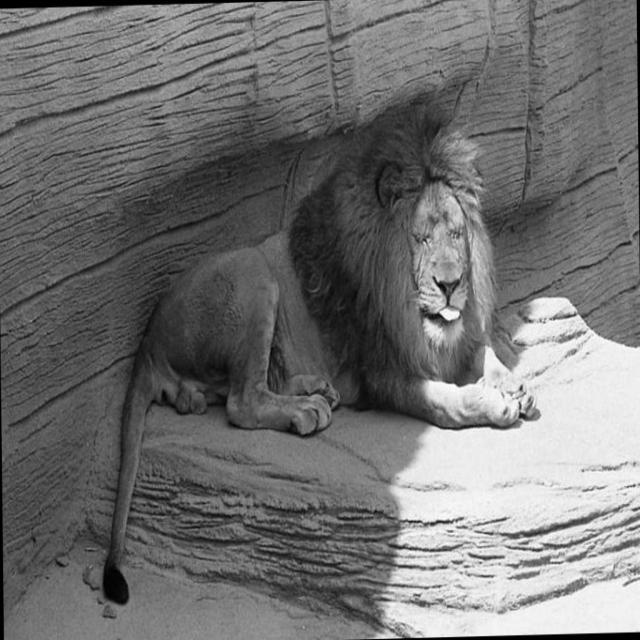Lion: (94, 101, 541, 604)
